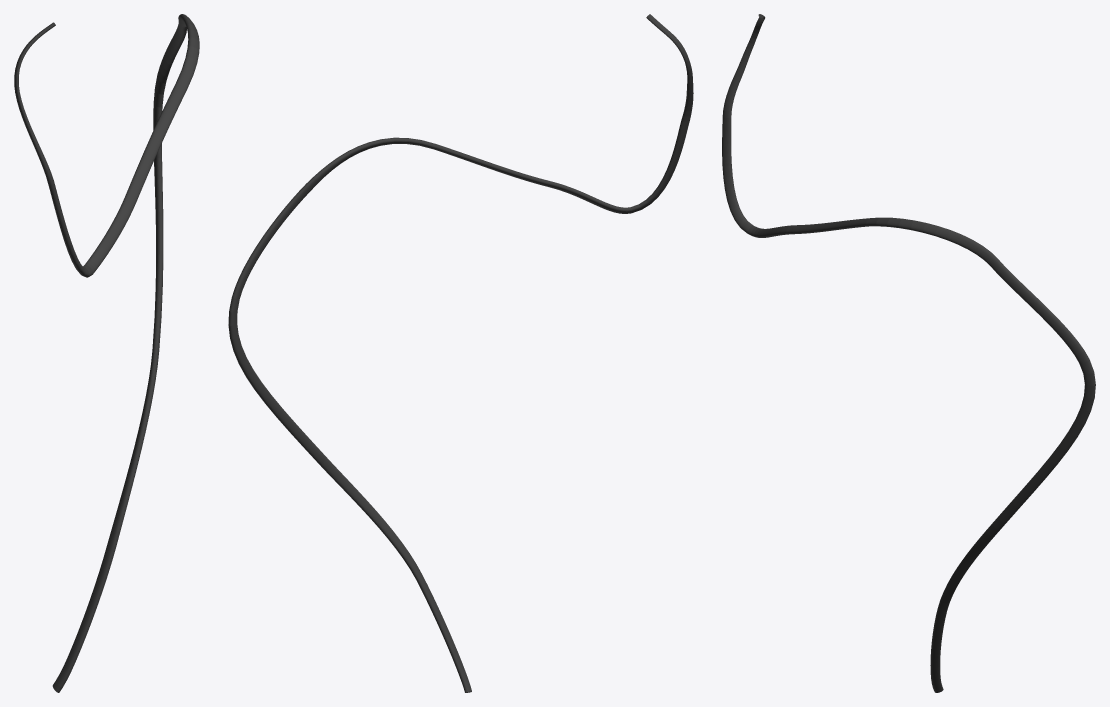
File: N_7_facial_chorda_tympani.glb
3 renders of one model, left to right at view 1: azimuth 30°, elevation 25°; view 2: azimuth 150°, elevation 25°; view 3: azimuth 270°, elevation 25°, orthographic. The views are drawn at different scales.
Parts seen in each view (by area): view 1: N_7_facial_chorda_tympani; view 2: N_7_facial_chorda_tympani; view 3: N_7_facial_chorda_tympani.
Part boxes in pixels (left/top/right/bottom): N_7_facial_chorda_tympani: left=14, top=14, right=199, bottom=692; N_7_facial_chorda_tympani: left=228, top=14, right=693, bottom=692; N_7_facial_chorda_tympani: left=722, top=14, right=1095, bottom=692.
Size of the model in its own units: 0.00601 by 0.0126 by 0.00674.
Materials: 1 (1 with a texture image).
